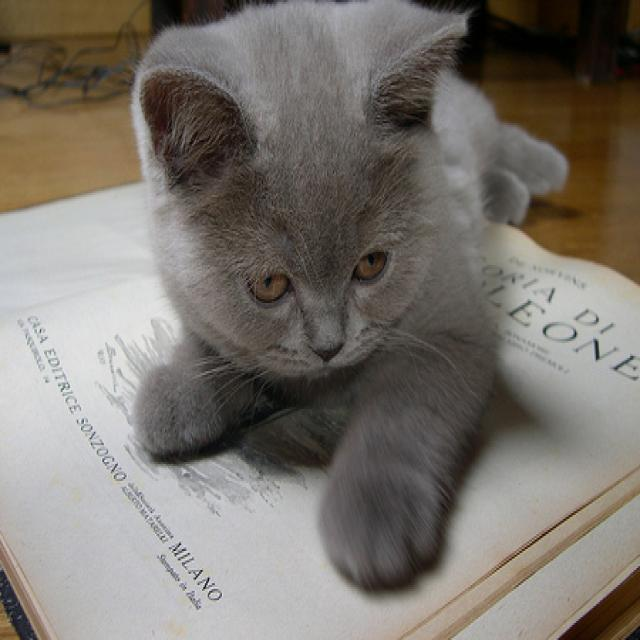British Shorthair: (125, 0, 570, 593)
